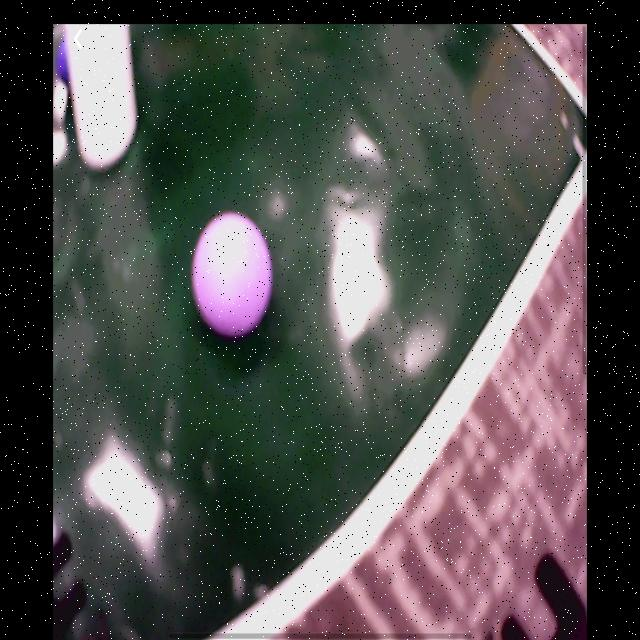ball: (196, 215, 272, 339), (57, 37, 72, 89)
